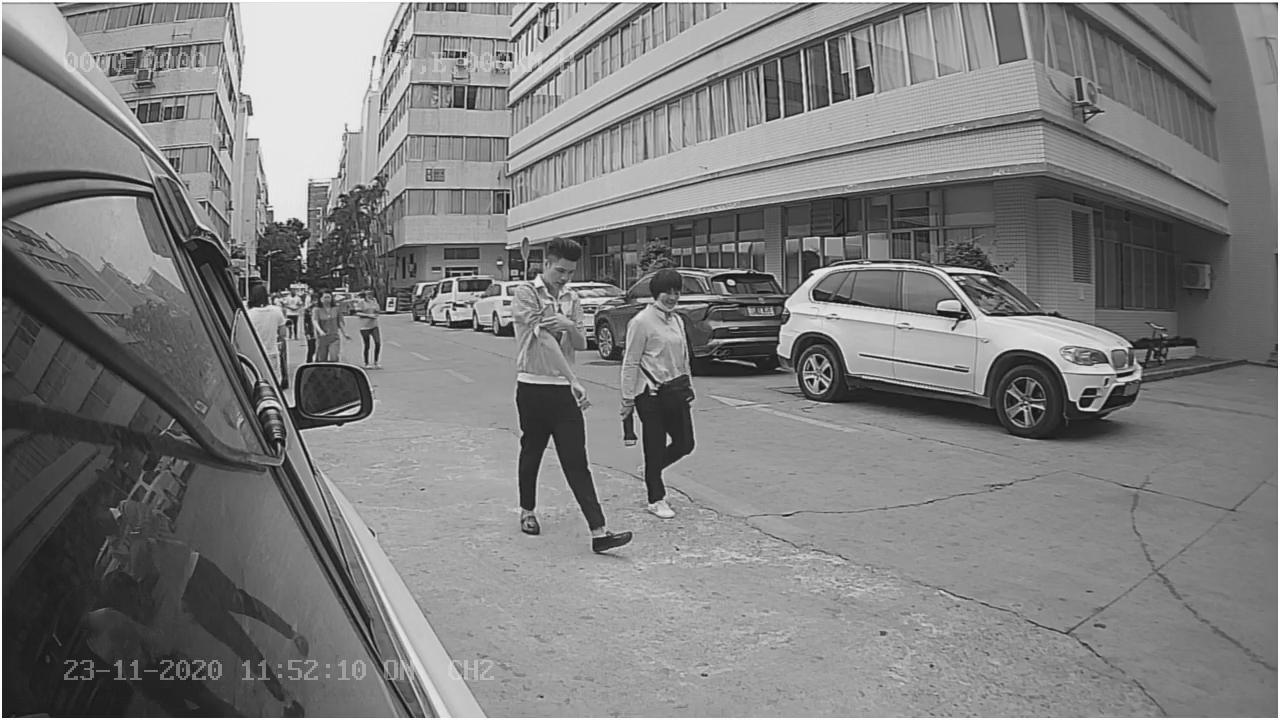person: (495, 235, 632, 550)
